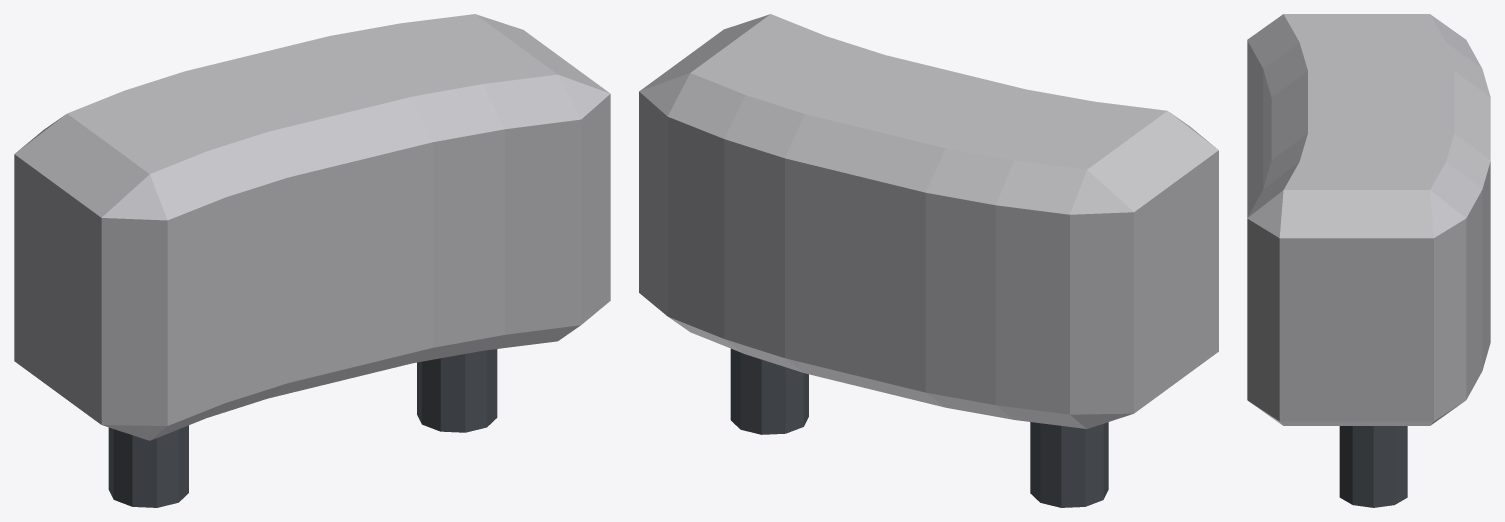
File: Personal_Vehicle_02_Head_Rest.fbx
3 renders of one model, left to right at view 1: azimuth 30°, elevation 25°; view 2: azimuth 150°, elevation 25°; view 3: azimuth 270°, elevation 25°, orthographic. The views are drawn at different scales.
Parts seen in each view (by area): view 1: Personal_Vehicle_02_Head_Rest; view 2: Personal_Vehicle_02_Head_Rest; view 3: Personal_Vehicle_02_Head_Rest.
Boxes of the visible parts, bbox=[...] form: Personal_Vehicle_02_Head_Rest: bbox=[14, 14, 610, 507]; Personal_Vehicle_02_Head_Rest: bbox=[639, 14, 1218, 507]; Personal_Vehicle_02_Head_Rest: bbox=[1247, 14, 1490, 507].
Bounding box in the file's own units: 28.13 × 19.35 × 13.18.
Materials: 1 (1 with a texture image).
